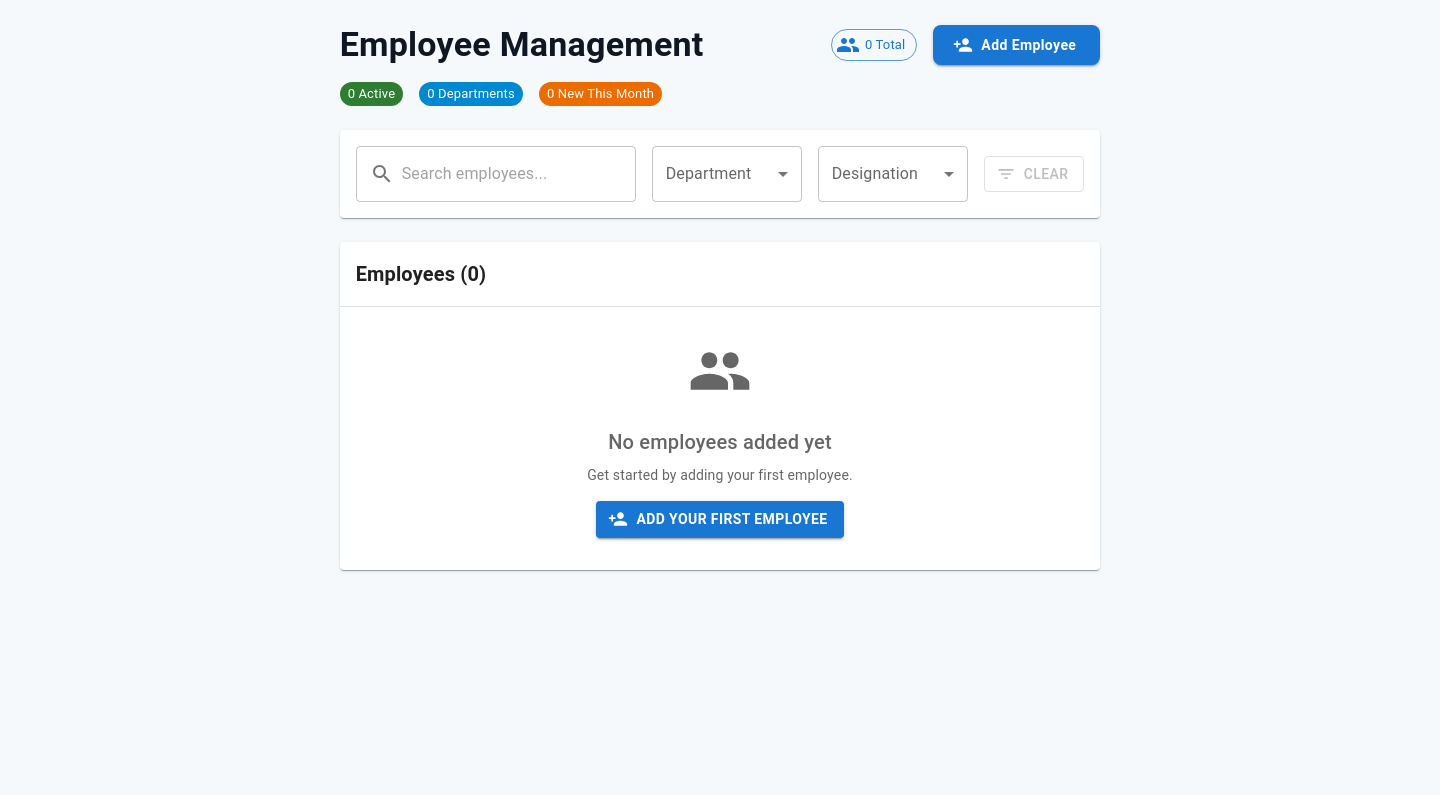
EmployeesFlow › empty state shows Add Your First Employee button
Expected: the heading "No employees added yet" is shown, [608, 430, 832, 454]
# Clicking should show form
Click the button "Add Your First Employee".
click(720, 519)  # box [596, 501, 844, 538]
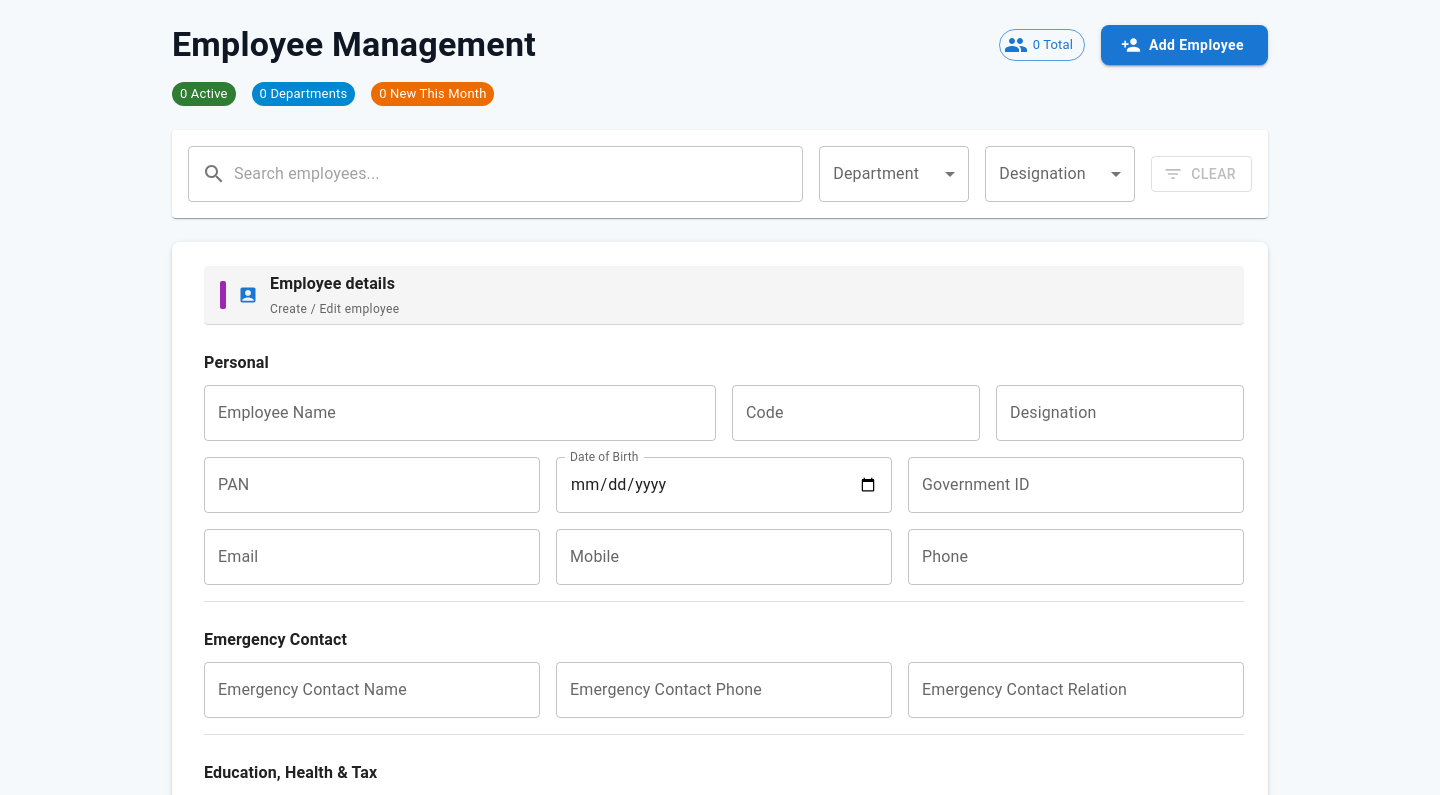
Expected: the field labelled "Employee Name" is shown, [204, 385, 716, 441]
